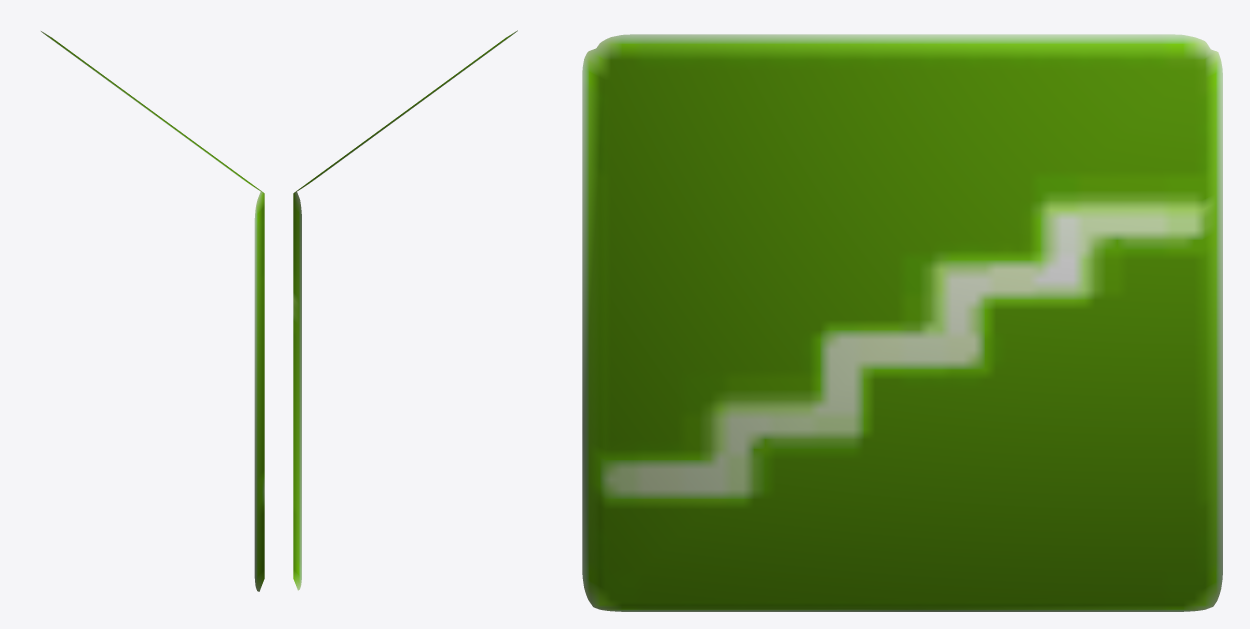
The model's file is M11B_Sign06.glb.
The picture shows the model from 3 angles, left to right: view 1: azimuth 30°, elevation 25°; view 2: azimuth 150°, elevation 25°; view 3: azimuth 270°, elevation 25°; orthographic projection. The views are drawn at different scales.
Visible parts, largest first — view 1: M11B_SIGN06; view 2: M11B_SIGN06; view 3: M11B_SIGN06.
Part boxes in pixels (x1,y1,x2,y2): M11B_SIGN06: (41, 31, 264, 591); M11B_SIGN06: (293, 30, 517, 590); M11B_SIGN06: (582, 34, 1222, 611).
Bounding box in the file's own units: 0.019 × 0.3 × 0.3.
1 material, 1 textured.
